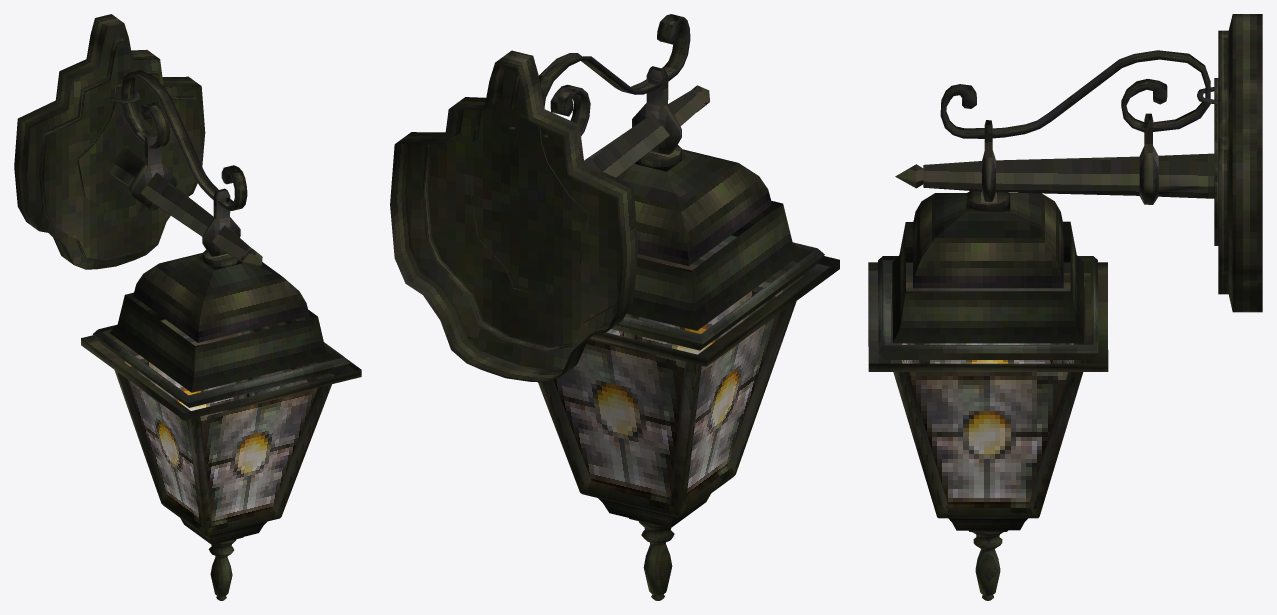
The model's file is exteriorLight.fbx.
3 views of the same model, side by side, from view 1: azimuth 30°, elevation 25°; view 2: azimuth 150°, elevation 25°; view 3: azimuth 270°, elevation 25° (orthographic). The views are drawn at different scales.
Parts seen in each view (by area): view 1: pasted__exteriorlamp1; view 2: pasted__exteriorlamp1; view 3: pasted__exteriorlamp1.
Part boxes in pixels (left/top/right/bottom): pasted__exteriorlamp1: left=14, top=14, right=361, bottom=600; pasted__exteriorlamp1: left=390, top=14, right=839, bottom=600; pasted__exteriorlamp1: left=868, top=14, right=1262, bottom=600.
Bounding box in the file's own units: 42.07 × 112 × 68.93.
